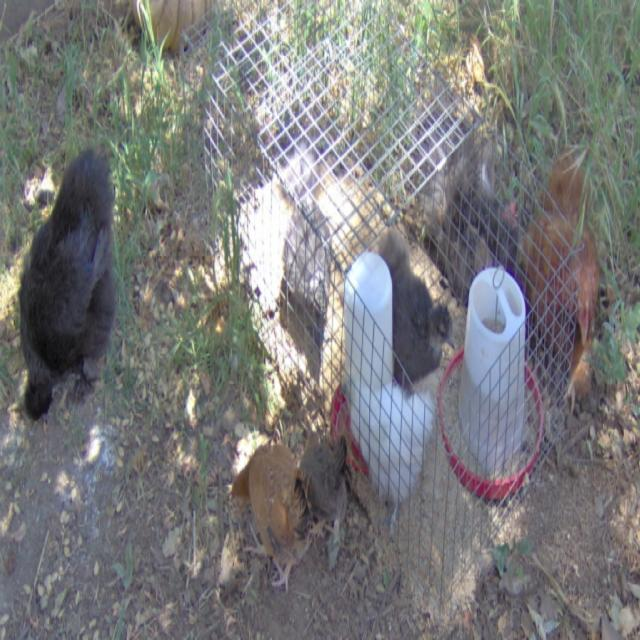Chicken: (12, 143, 112, 441)
